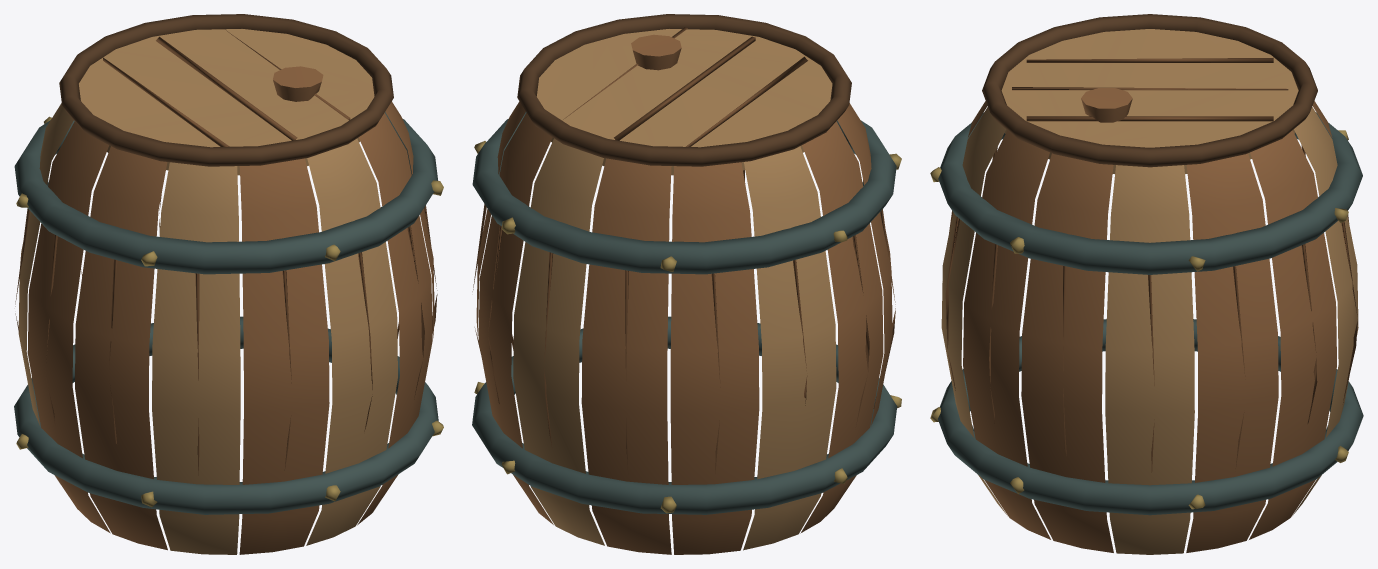
Rendered from barril_lod.glb.
3 renders of one model, left to right at view 1: azimuth 30°, elevation 25°; view 2: azimuth 150°, elevation 25°; view 3: azimuth 270°, elevation 25°, orthographic.
Visible parts, largest first — view 1: barril; view 2: barril; view 3: barril.
Boxes of the visible parts, x1,y1,x2,y2 form: barril: (14,14,443,554); barril: (472,14,901,554); barril: (930,14,1363,554).
Size of the model in its own units: 0.7451 by 0.795 by 0.7527.
